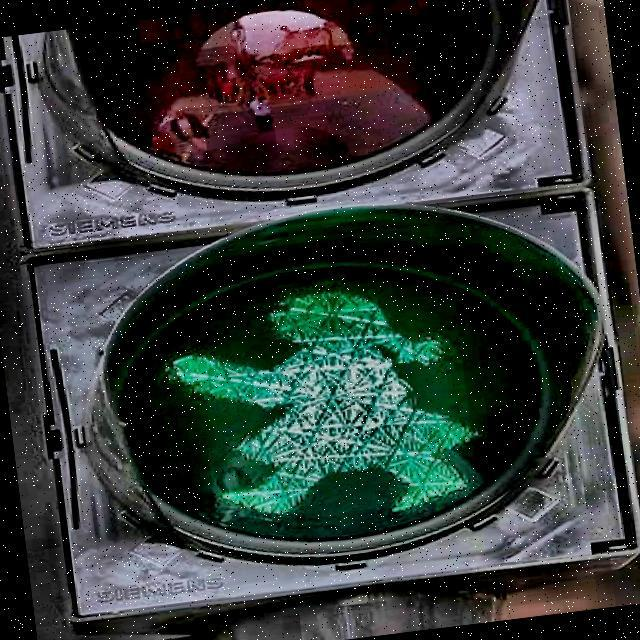green_light: (150, 267, 494, 540)
